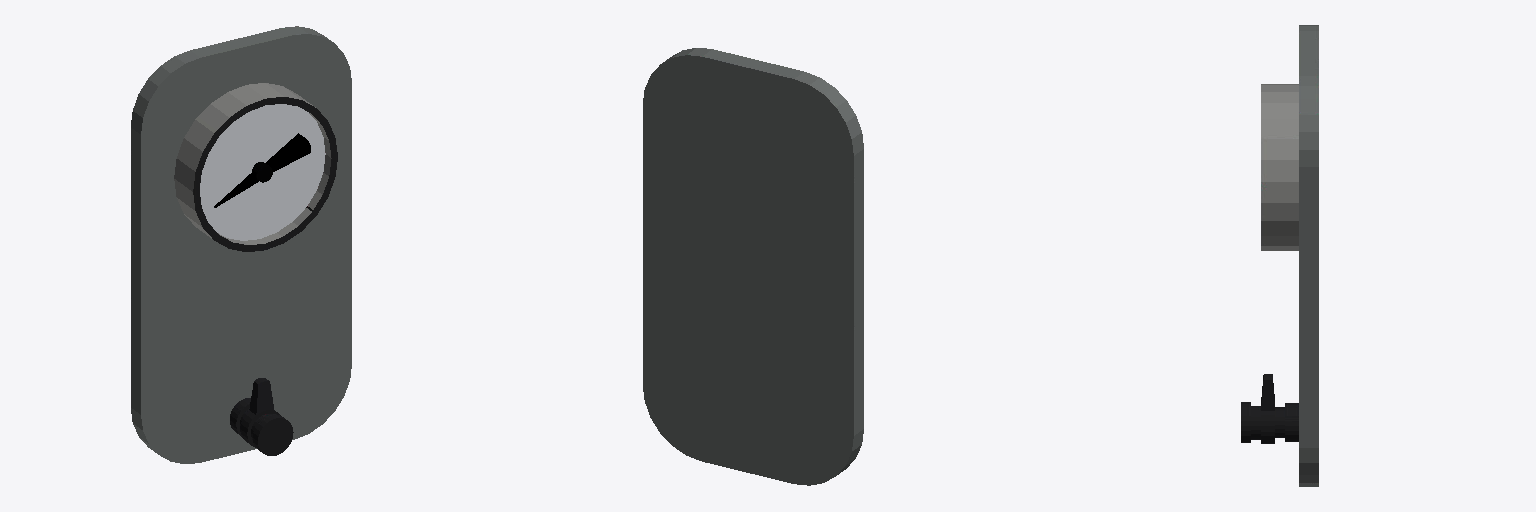
3 renders of one model, left to right at view 1: azimuth 30°, elevation 25°; view 2: azimuth 150°, elevation 25°; view 3: azimuth 270°, elevation 25°, orthographic.
Visible parts, largest first — view 1: Pressure_Laundry.obj; view 2: Pressure_Laundry.obj; view 3: Pressure_Laundry.obj.
Boxes of the visible parts, box(x1,y1,x2,y2) form: Pressure_Laundry.obj: box(131, 26, 351, 463); Pressure_Laundry.obj: box(643, 48, 863, 485); Pressure_Laundry.obj: box(1241, 25, 1318, 486).
Bounding box in the file's own units: 3.61 × 6.61 × 1.17.
2 materials, 1 textured.